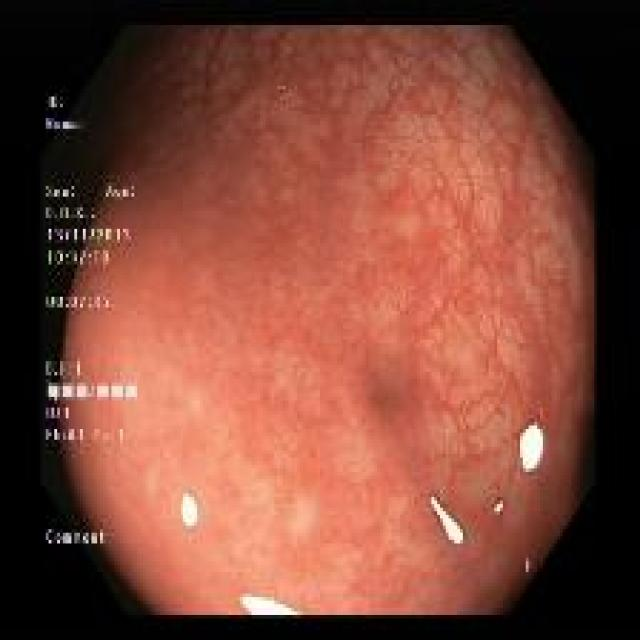ulcerative-colitis: (41, 27, 594, 614)
